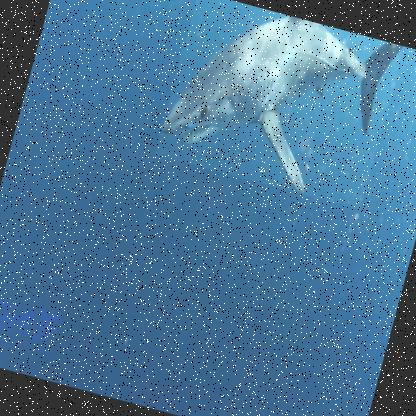mako-shark: (152, 0, 404, 210)
